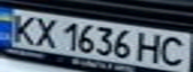1: (57, 19, 81, 52)
3: (93, 25, 115, 57)
6: (112, 27, 136, 61), (75, 21, 96, 55)
C: (157, 34, 193, 68)
H: (136, 29, 166, 64)
K: (3, 10, 39, 45)
X: (30, 15, 60, 48)
